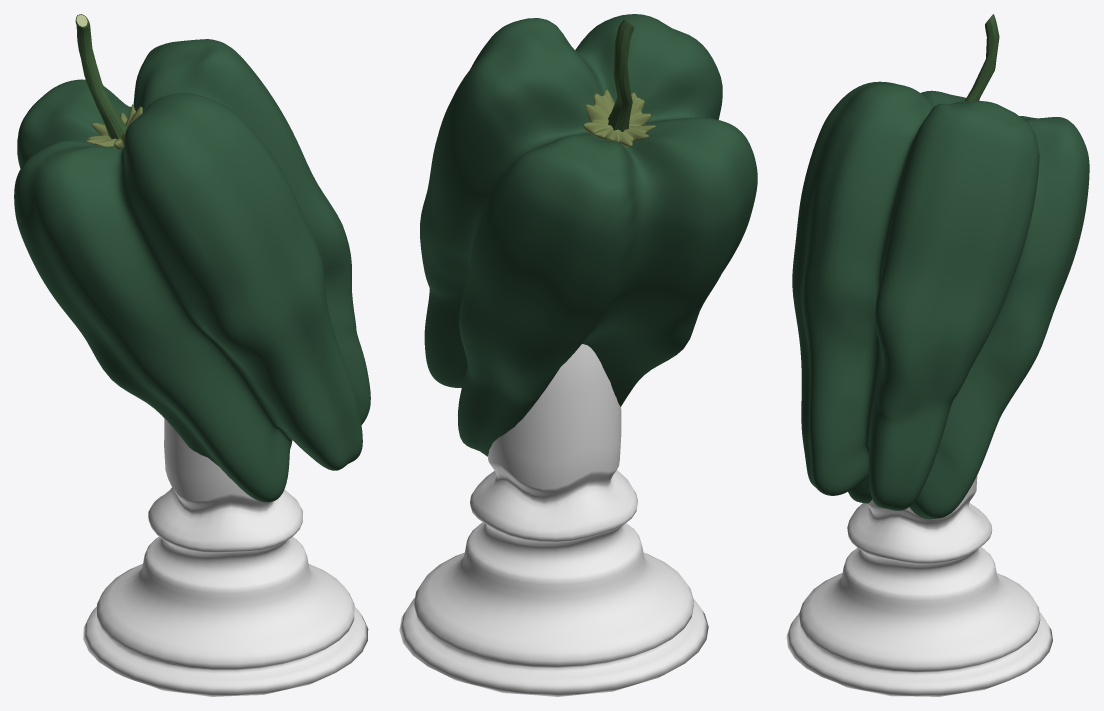
File: PIIMAN.fbx
3 views of the same model, side by side, from view 1: azimuth 30°, elevation 25°; view 2: azimuth 150°, elevation 25°; view 3: azimuth 270°, elevation 25° (orthographic). The views are drawn at different scales.
Visible parts, largest first — view 1: polySurface19; view 2: polySurface19; view 3: polySurface19.
Part boxes in pixels (left/top/right/bottom): polySurface19: left=14, top=14, right=370, bottom=696; polySurface19: left=399, top=14, right=757, bottom=696; polySurface19: left=786, top=14, right=1089, bottom=696.
Bounding box in the file's own units: 8.17 × 15.85 × 7.4.
